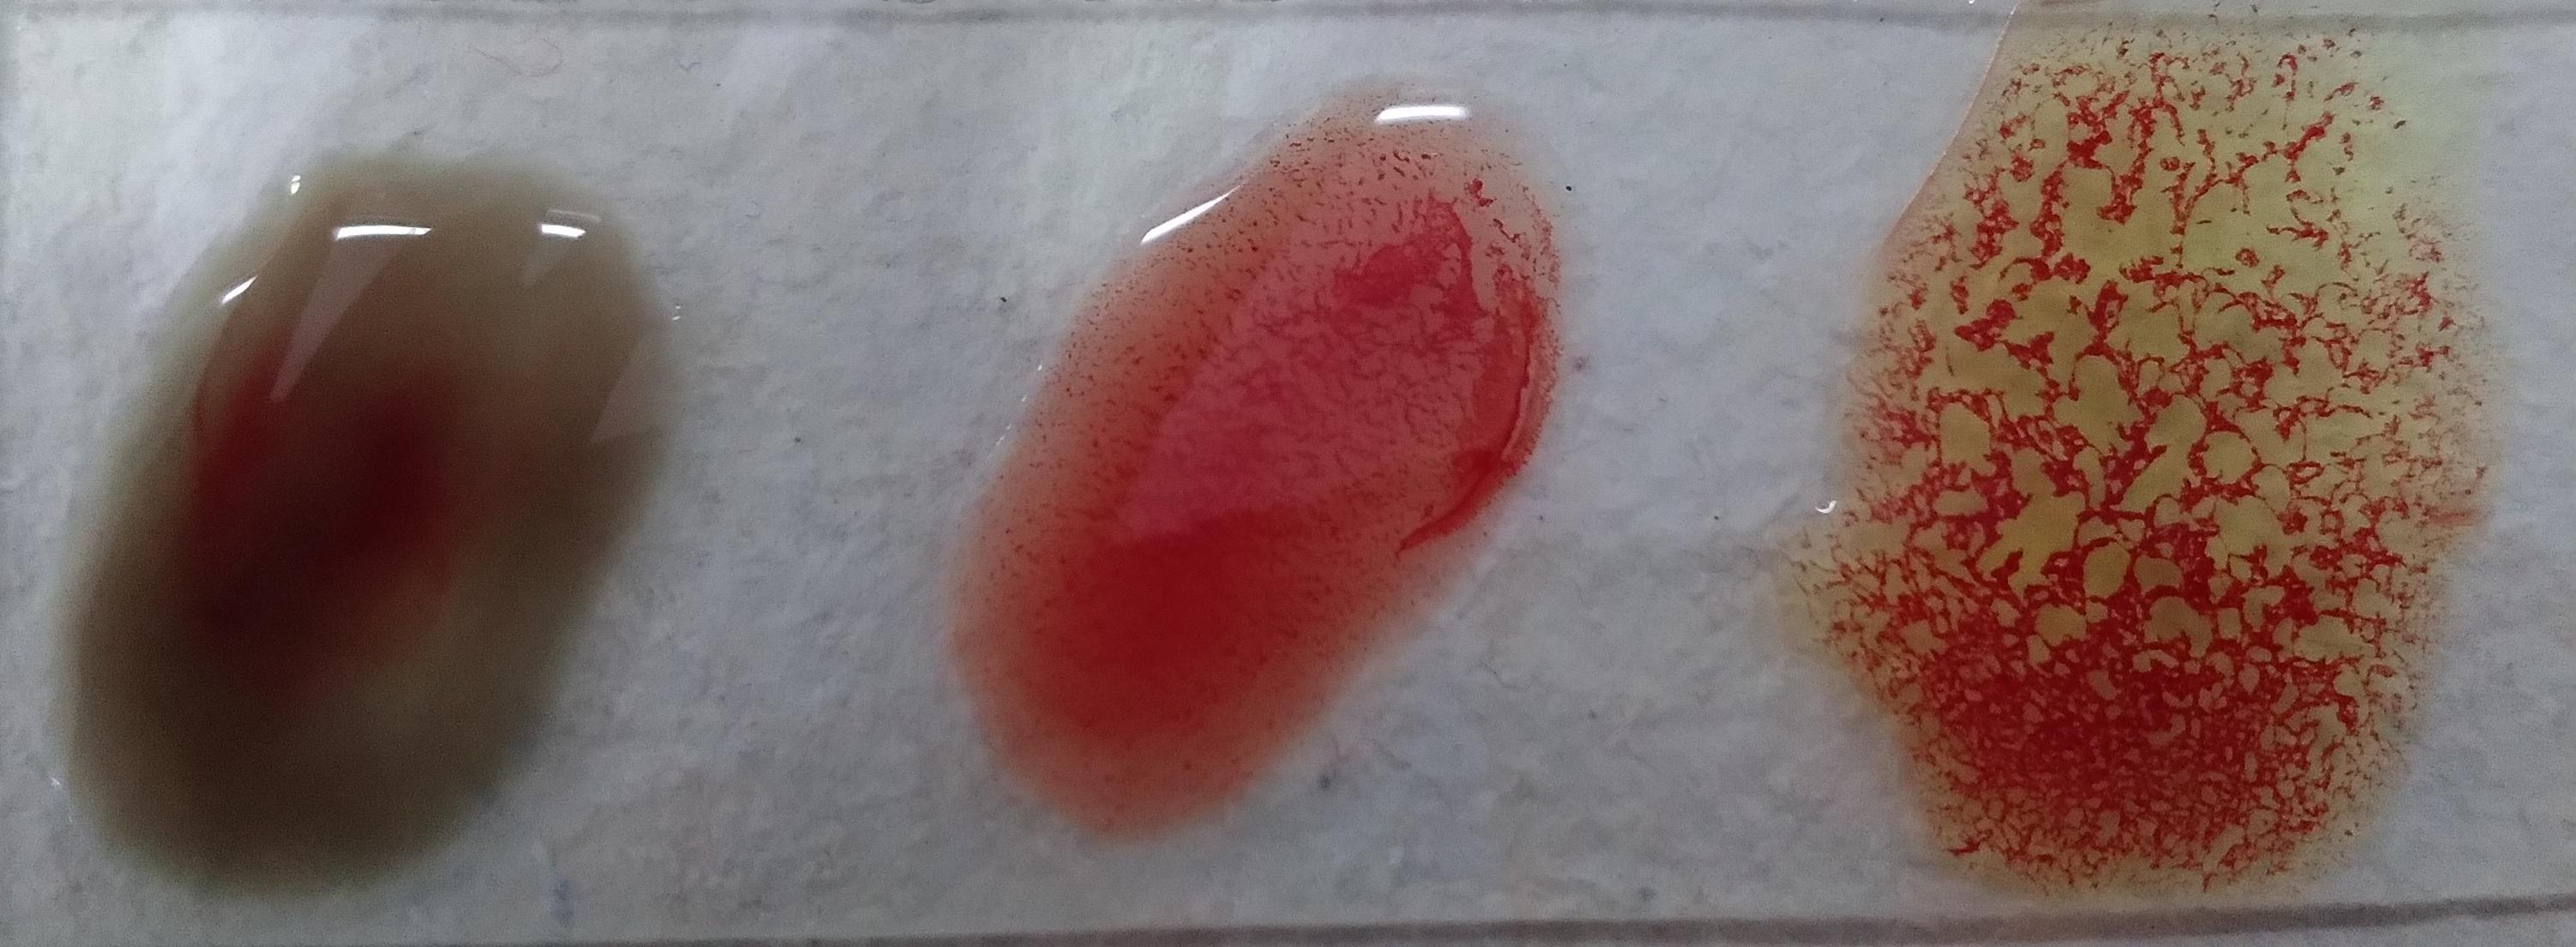B: (107, 48, 749, 939)
D: (1045, 107, 1579, 855)
